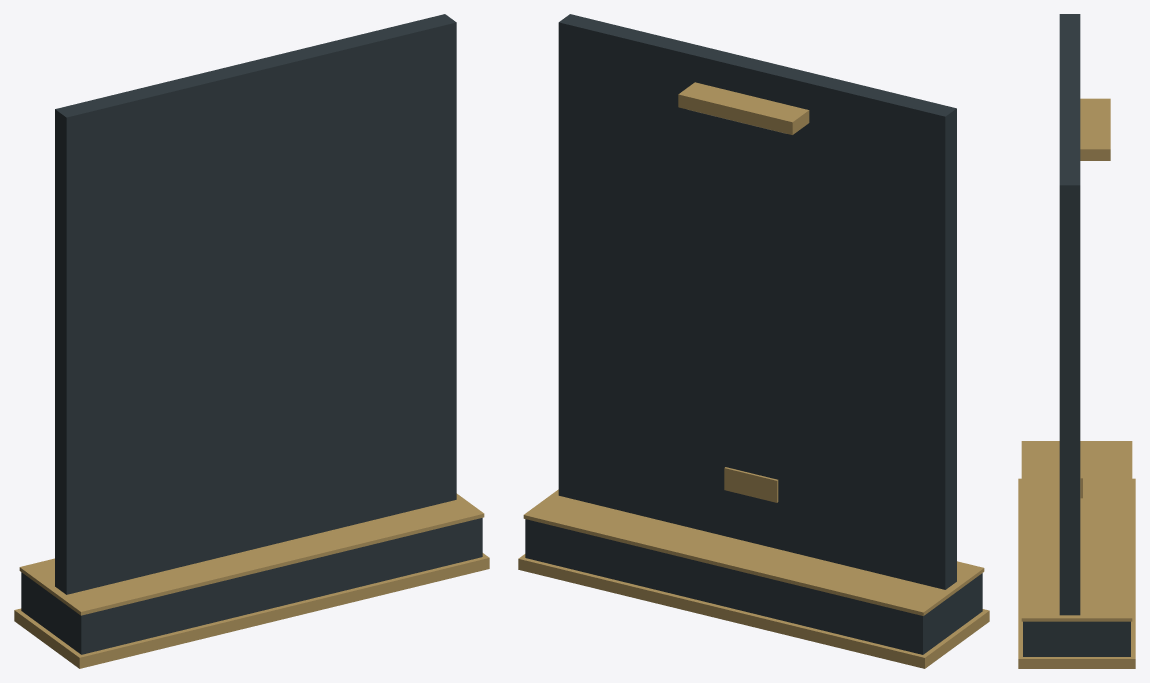
Rendered from VIC_F01_PAINTING_MONOLITH_Roblox.fbx.
3 views of the same model, side by side, from view 1: azimuth 30°, elevation 25°; view 2: azimuth 150°, elevation 25°; view 3: azimuth 270°, elevation 25° (orthographic). The views are drawn at different scales.
Visible parts, largest first — view 1: VIC_F01_PAINTING_MONOLITH__Charcoal.001, VIC_F01_PAINTING_MONOLITH__Brass.001; view 2: VIC_F01_PAINTING_MONOLITH__Charcoal.001, VIC_F01_PAINTING_MONOLITH__Brass.001; view 3: VIC_F01_PAINTING_MONOLITH__Brass.001, VIC_F01_PAINTING_MONOLITH__Charcoal.001.
Boxes of the visible parts, x1=… form: VIC_F01_PAINTING_MONOLITH__Charcoal.001: x1=21, y1=14, x2=482, y2=654; VIC_F01_PAINTING_MONOLITH__Brass.001: x1=14, y1=493, x2=489, y2=668; VIC_F01_PAINTING_MONOLITH__Charcoal.001: x1=525, y1=14, x2=982, y2=654; VIC_F01_PAINTING_MONOLITH__Brass.001: x1=518, y1=82, x2=989, y2=668; VIC_F01_PAINTING_MONOLITH__Brass.001: x1=1018, y1=98, x2=1135, y2=668; VIC_F01_PAINTING_MONOLITH__Charcoal.001: x1=1023, y1=14, x2=1130, y2=656.
Bounding box in the file's own units: 9.25 × 11.47 × 2.55.
